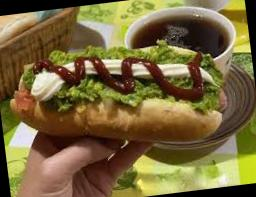Completos: (4, 30, 231, 162)
